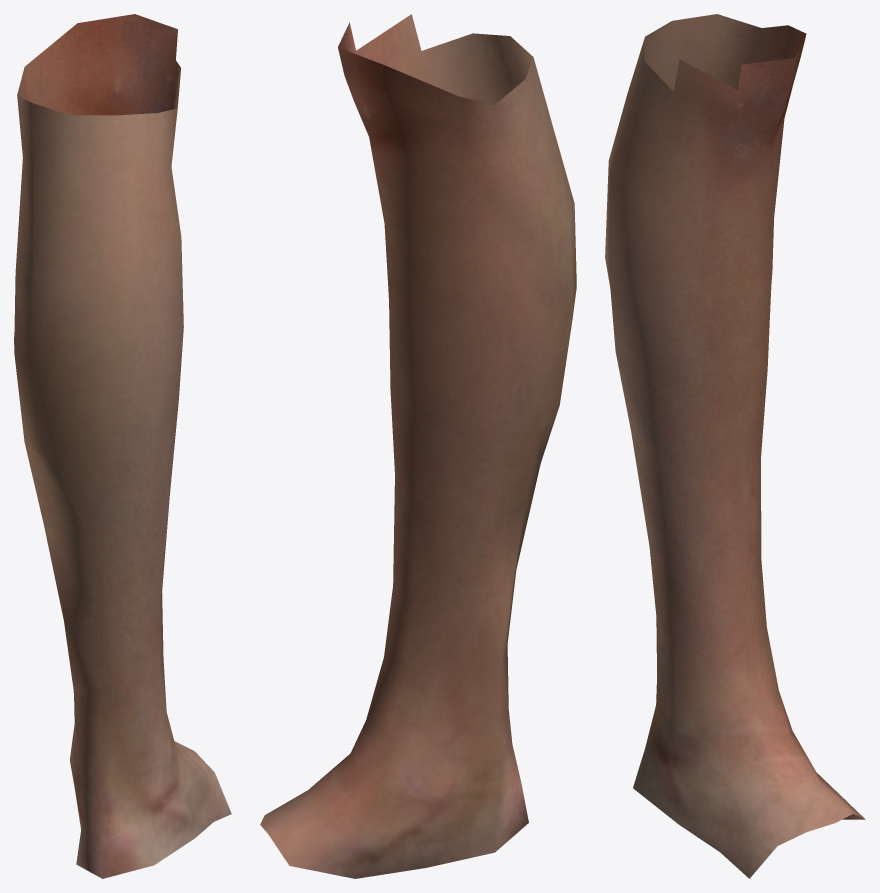
File: TibiaDer.obj
The picture shows the model from 3 angles, left to right: view 1: azimuth 30°, elevation 25°; view 2: azimuth 150°, elevation 25°; view 3: azimuth 270°, elevation 25°; orthographic projection. The views are drawn at different scales.
Parts seen in each view (by area): view 1: TibiaDer; view 2: TibiaDer; view 3: TibiaDer.
Part boxes in pixels (x1,y1,x2,y2): TibiaDer: [14, 14, 231, 878]; TibiaDer: [260, 14, 576, 878]; TibiaDer: [605, 14, 865, 878].
Bounding box in the file's own units: 2.99 × 9.51 × 2.86.
1 material, 1 textured.
